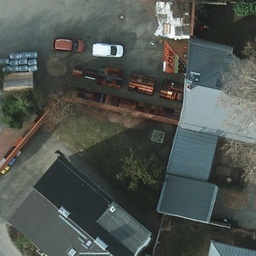car: (92, 42, 123, 58), (52, 38, 85, 53)
